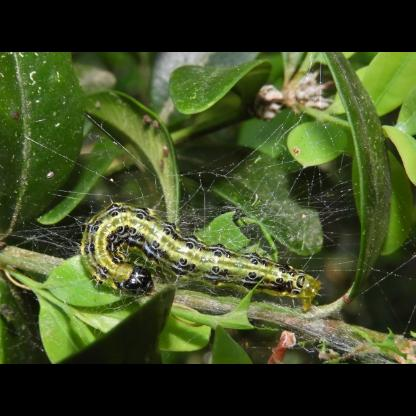oruga: (58, 203, 332, 303)
